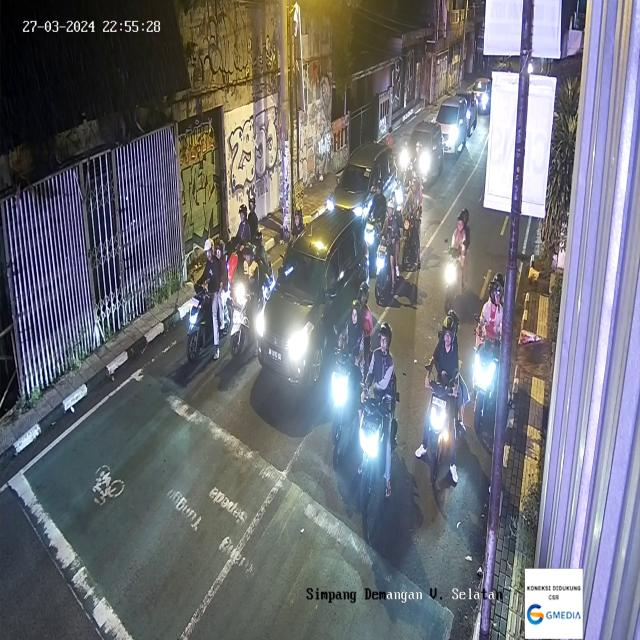car: (256, 205, 368, 389), (331, 139, 395, 217), (402, 123, 442, 182), (435, 96, 465, 157), (471, 72, 491, 113)
motorcycle: (359, 319, 397, 520), (420, 314, 462, 492), (331, 284, 369, 461), (189, 239, 232, 361), (474, 272, 504, 436), (234, 237, 267, 352), (446, 207, 475, 320), (228, 204, 262, 265), (377, 202, 397, 305), (364, 179, 386, 272), (402, 178, 422, 272)
